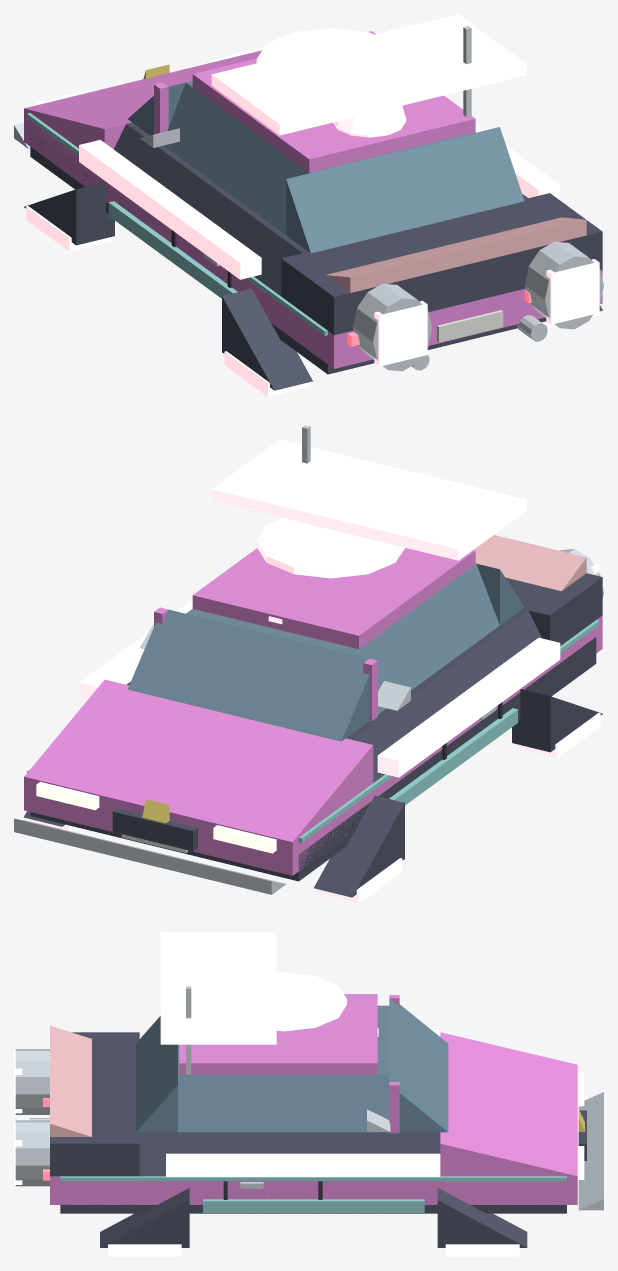
The model's file is futurefoil.glb.
3 views of the same model, one above another, from view 1: azimuth 30°, elevation 25°; view 2: azimuth 150°, elevation 25°; view 3: azimuth 270°, elevation 25° (orthographic). The views are drawn at different scales.
Visible parts, largest first — view 1: SolarSail.020, RearWindow.217, Tail.117, CabinSideL.114, Body.317, Roof.317, FloatFin-1.059, ShoulderL.114, Ducktail.080, Nose.114, HoverPodWheel_RL.059, HoverPodWheel_FL.059 (+18 smaller); view 2: Nose.114, SolarSail.020, Windshield.217, Roof.317, CabinSideL.114, Body.317, FloatFin-1.059, ShoulderL.114, HaloRing.017, Sill.313, HoverPodWheel_FL.059, Tail.117 (+16 smaller); view 3: Nose.114, SolarSail.020, CabinSideR.114, Body.317, Roof.317, Tail.117, ShoulderR.114, FloatFin1.059, Windshield.217, Ducktail.080, RearWindow.217, HaloRing.017 (+13 smaller).
Boxes of the visible parts, x1=… form: SolarSail.020: x1=211, y1=14, x2=526, y2=135; RearWindow.217: x1=286, y1=127, x2=524, y2=253; Tail.117: x1=281, y1=193, x2=602, y2=335; CabinSideL.114: x1=164, y1=83, x2=309, y2=234; Body.317: x1=24, y1=108, x2=602, y2=368; Roof.317: x1=192, y1=58, x2=475, y2=172; FloatFin-1.059: x1=79, y1=139, x2=261, y2=279; ShoulderL.114: x1=113, y1=124, x2=302, y2=296; Ducktail.080: x1=326, y1=217, x2=586, y2=292; Nose.114: x1=24, y1=50, x2=261, y2=148; HoverPodWheel_RL.059: x1=222, y1=288, x2=312, y2=390; HoverPodWheel_FL.059: x1=24, y1=182, x2=114, y2=245; Nose.114: x1=24, y1=679, x2=373, y2=841; SolarSail.020: x1=211, y1=439, x2=526, y2=560; Windshield.217: x1=127, y1=609, x2=369, y2=741; Roof.317: x1=192, y1=548, x2=475, y2=649; CabinSideL.114: x1=353, y1=564, x2=499, y2=714; Body.317: x1=24, y1=615, x2=602, y2=875; FloatFin-1.059: x1=377, y1=637, x2=560, y2=777; ShoulderL.114: x1=352, y1=610, x2=541, y2=782; HaloRing.017: x1=256, y1=518, x2=404, y2=578; Sill.313: x1=30, y1=637, x2=596, y2=881; HoverPodWheel_FL.059: x1=314, y1=795, x2=404, y2=897; Tail.117: x1=505, y1=573, x2=602, y2=645; Nose.114: x1=440, y1=1032, x2=577, y2=1176; SolarSail.020: x1=160, y1=932, x2=276, y2=1044; CabinSideR.114: x1=178, y1=1074, x2=389, y2=1132; Body.317: x1=50, y1=1176, x2=577, y2=1204; Roof.317: x1=179, y1=994, x2=377, y2=1074; Tail.117: x1=50, y1=1032, x2=139, y2=1176; ShoulderR.114: x1=139, y1=1134, x2=440, y2=1176; FloatFin1.059: x1=166, y1=1153, x2=440, y2=1176; Windshield.217: x1=389, y1=999, x2=448, y2=1132; Ducktail.080: x1=50, y1=1025, x2=91, y2=1136; RearWindow.217: x1=136, y1=1016, x2=177, y2=1132; HaloRing.017: x1=276, y1=972, x2=346, y2=1031.
Bounding box in the file's own units: 3.1 × 2.44 × 5.59.
